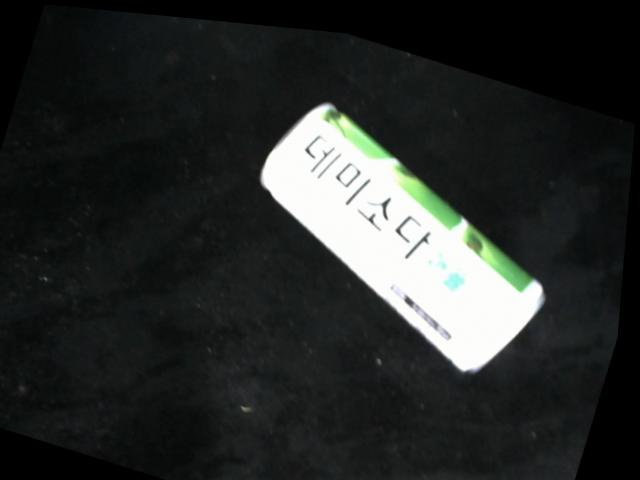can: (259, 93, 552, 368)
